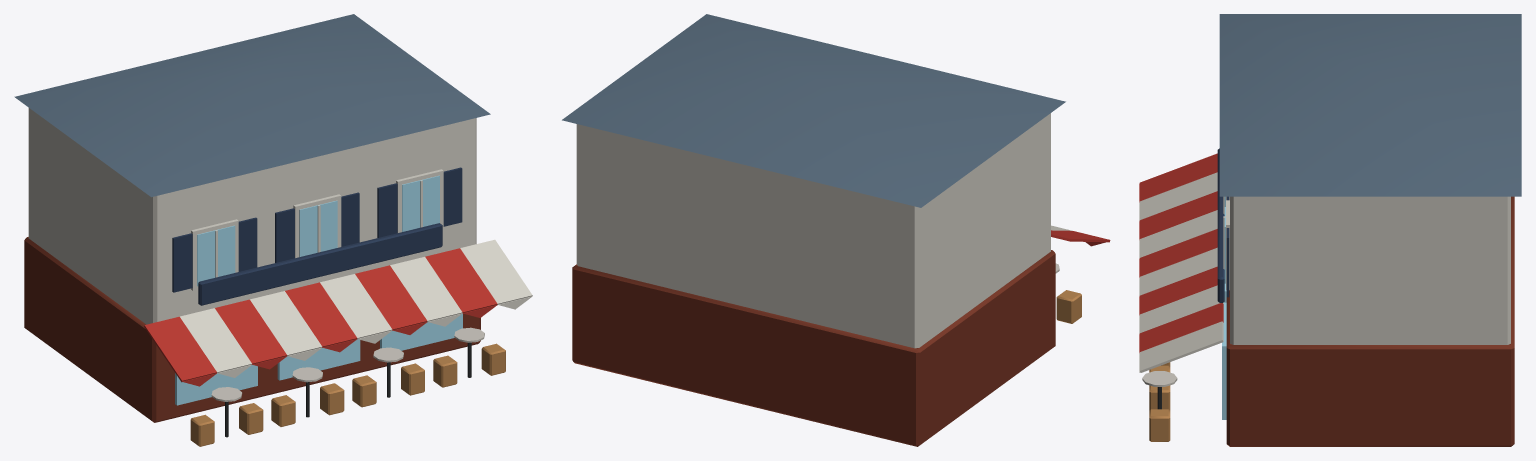
Rendered from 135_cafe_brasserie.fbx.
3 renders of one model, left to right at view 1: azimuth 30°, elevation 25°; view 2: azimuth 150°, elevation 25°; view 3: azimuth 270°, elevation 25°, orthographic. The views are drawn at different scales.
Visible parts, largest first — view 1: Murs, Auvent, Vitres, Enseigne; view 2: Murs, Auvent; view 3: Murs, Auvent, Enseigne, Vitres.
Part boxes in pixels (box(x1,y1,x2,y2)): Murs: box(14, 14, 505, 446); Auvent: box(144, 239, 532, 386); Vitres: box(175, 175, 462, 405); Enseigne: box(198, 223, 442, 305); Murs: box(562, 14, 1081, 446); Auvent: box(1051, 225, 1110, 246); Murs: box(1142, 14, 1521, 446); Auvent: box(1139, 153, 1223, 372); Enseigne: box(1217, 148, 1224, 302); Vitres: box(1222, 196, 1226, 419).
Size of the model in its own units: 3.92 by 2.8 by 3.36.
1 material, 1 textured.
